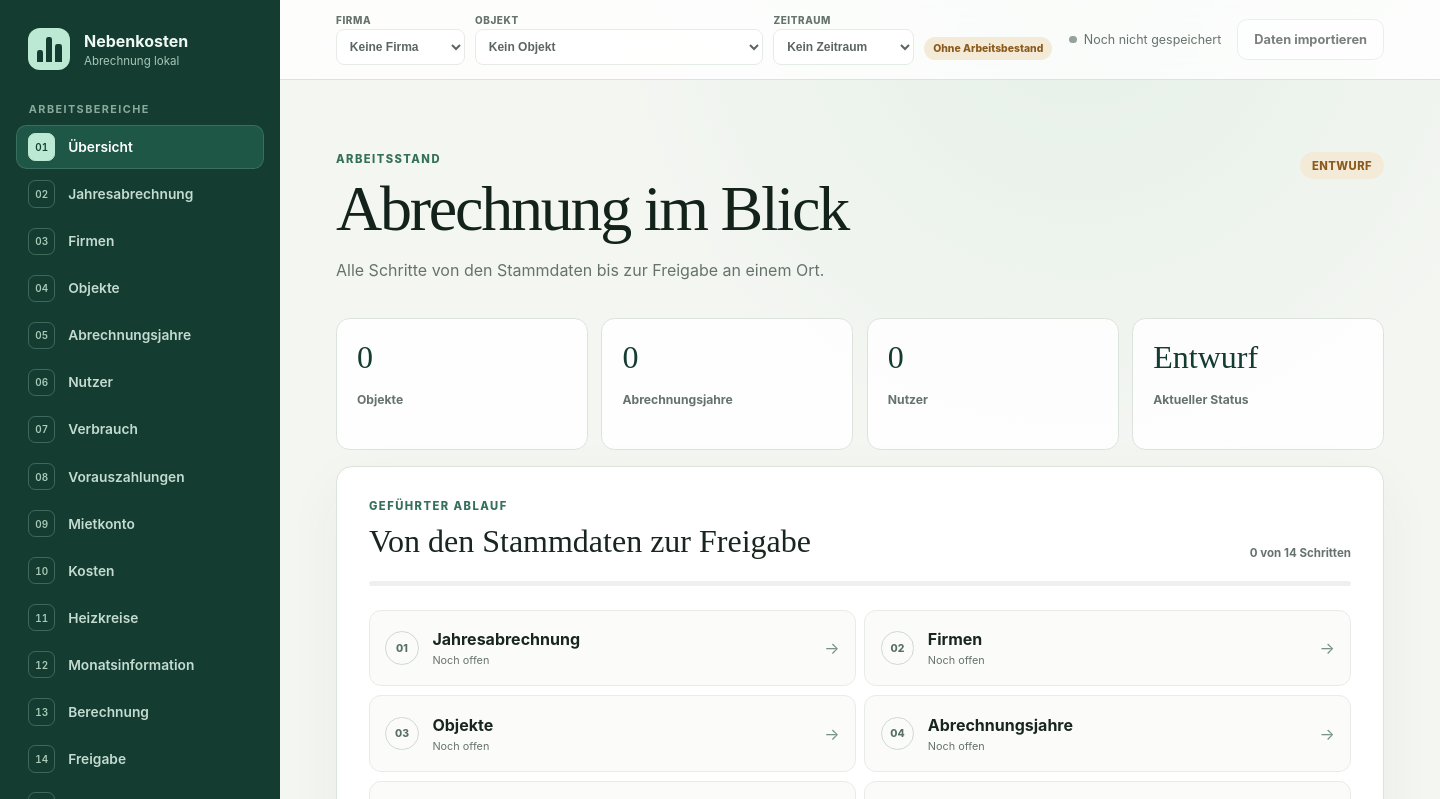
Test: App › navigates between workflow areas without reloading the page
This screenshot has width=1440, height=799.
What coordinates should you click on to do the following:
click the link "10 Kosten"
I would click on:
 (71, 571)
Its box is [28,557,114,584].
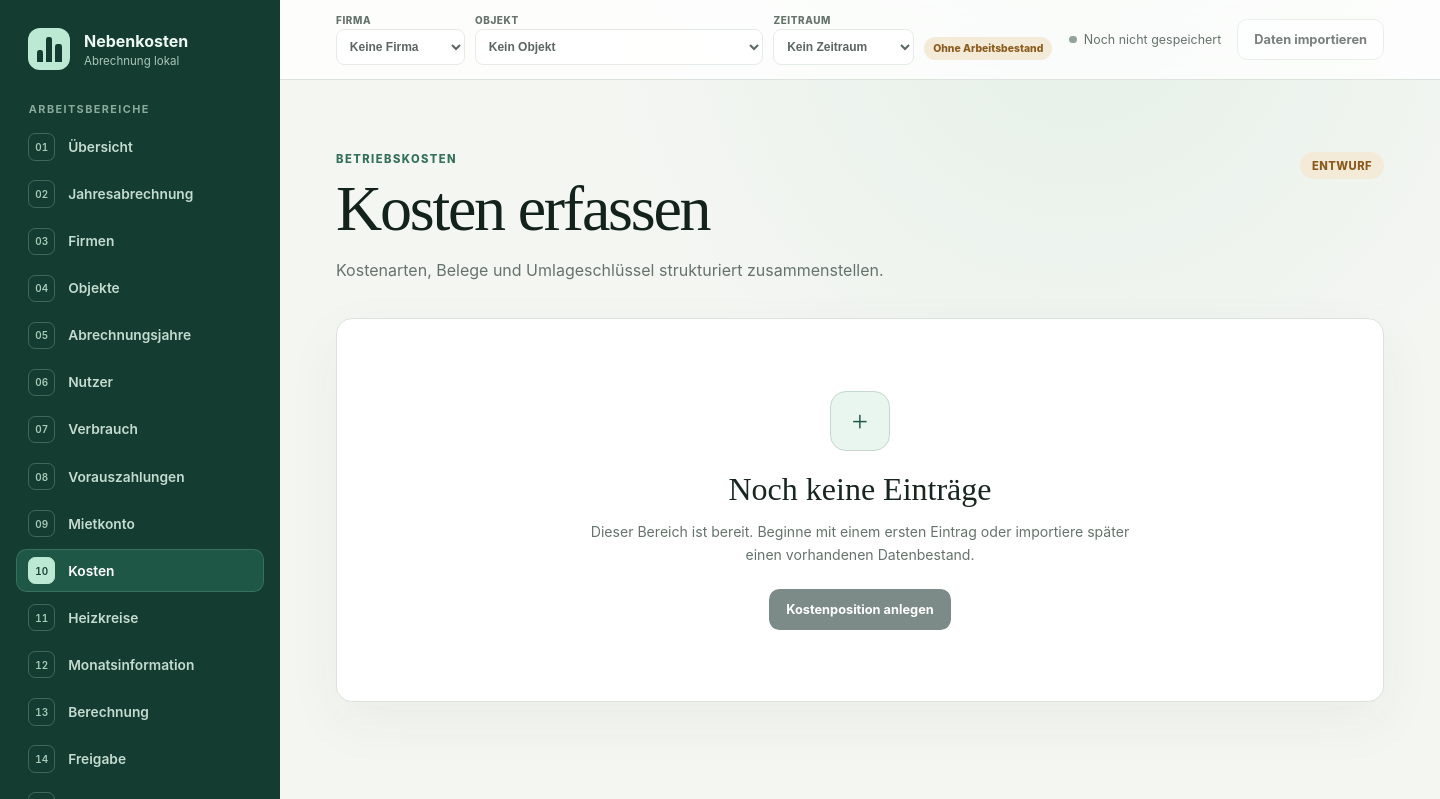
Now the heading "Kosten erfassen" is shown, box [336,173,709,244]
